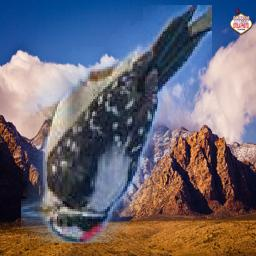Woodpecker: (22, 5, 213, 243)
